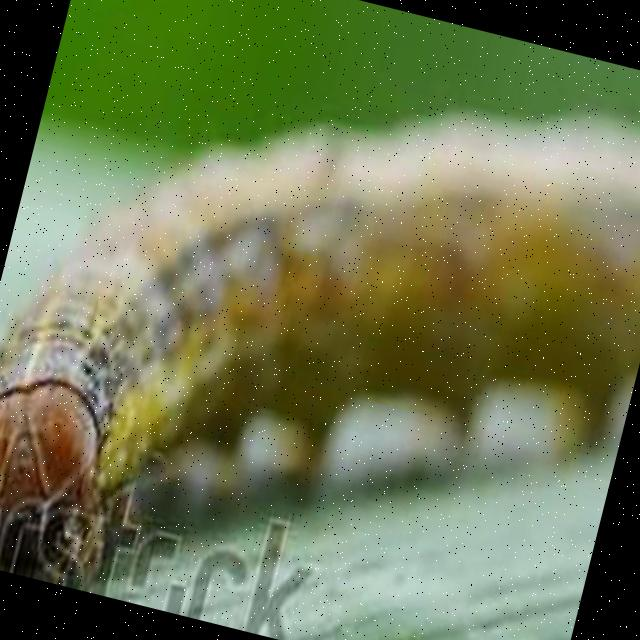worm: (1, 1, 640, 640), (1, 359, 148, 595)
